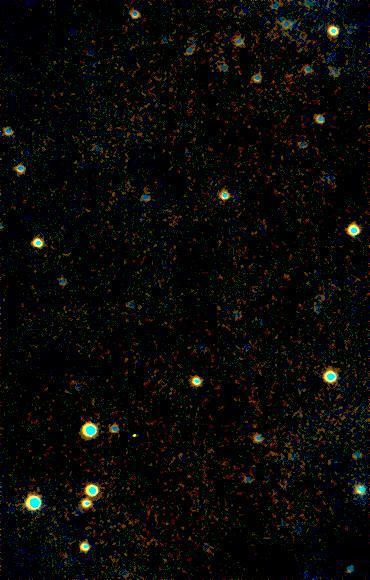star: (271, 261, 301, 291)
